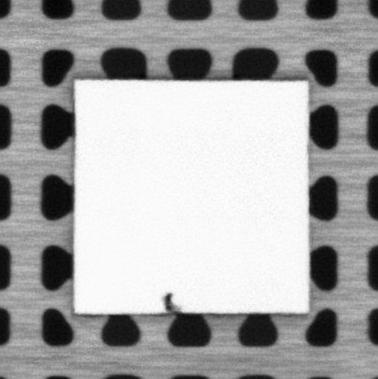DIE_INK: (161, 290, 182, 312)
